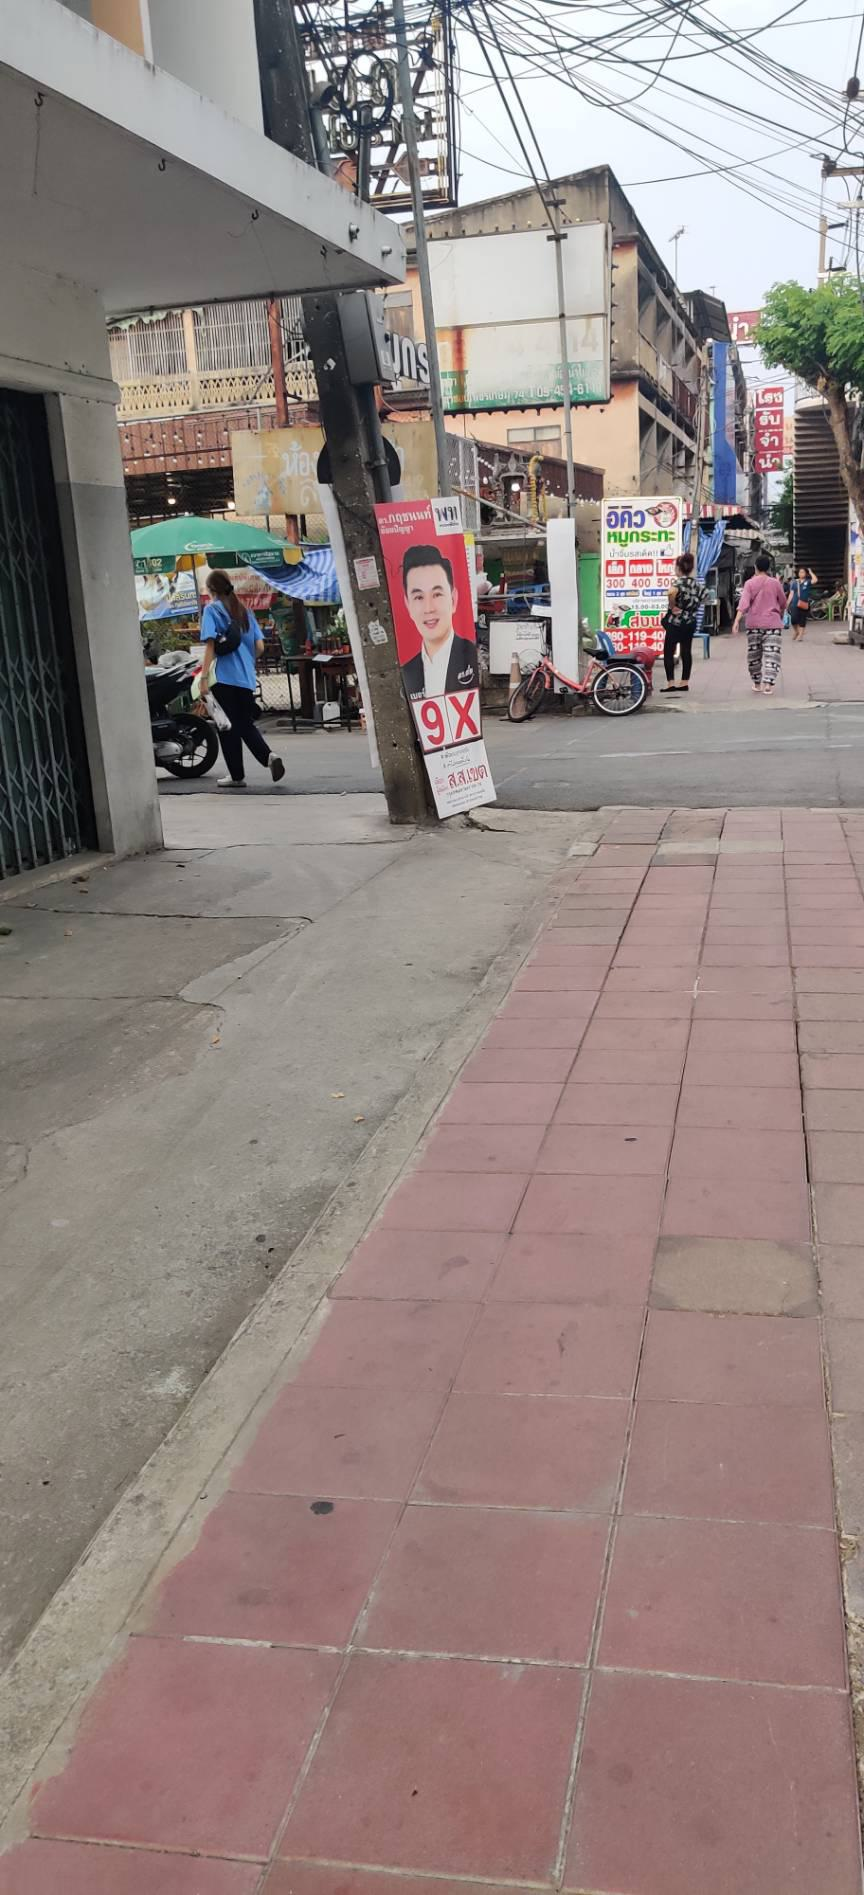Banner: (376, 499, 498, 810)
